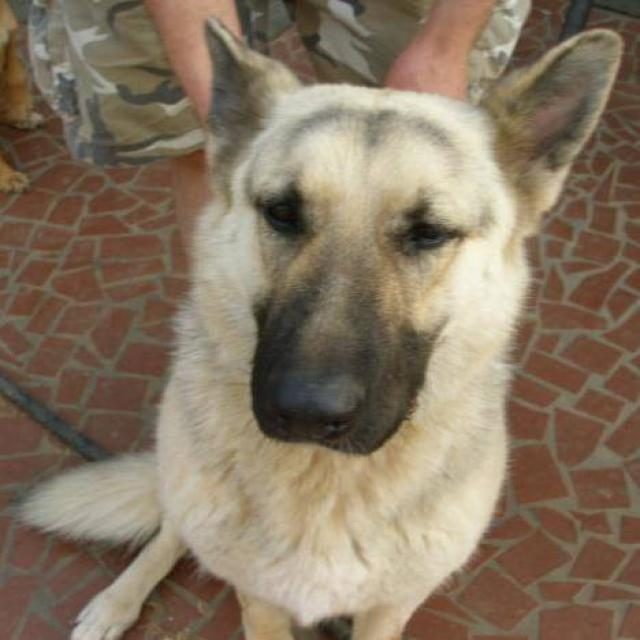dog: (16, 10, 624, 639)
